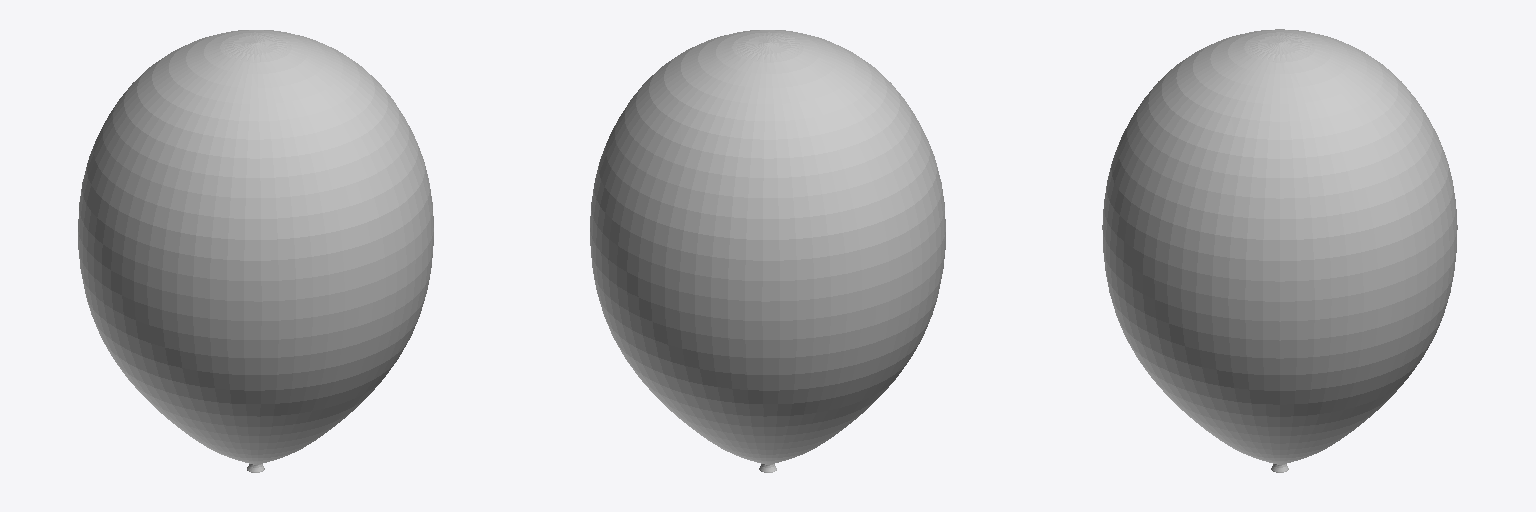
File: Globo5.obj
3 views of the same model, side by side, from view 1: azimuth 30°, elevation 25°; view 2: azimuth 150°, elevation 25°; view 3: azimuth 270°, elevation 25° (orthographic).
Parts seen in each view (by area): view 1: Sphere.012; view 2: Sphere.012; view 3: Sphere.012.
Boxes of the visible parts, x1=… form: Sphere.012: x1=78, y1=30, x2=433, y2=472; Sphere.012: x1=590, y1=30, x2=945, y2=472; Sphere.012: x1=1102, y1=29, x2=1457, y2=472.
Bounding box in the file's own units: 0.5211 × 0.688 × 0.519.